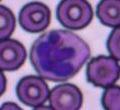N: (30, 30, 88, 80)
